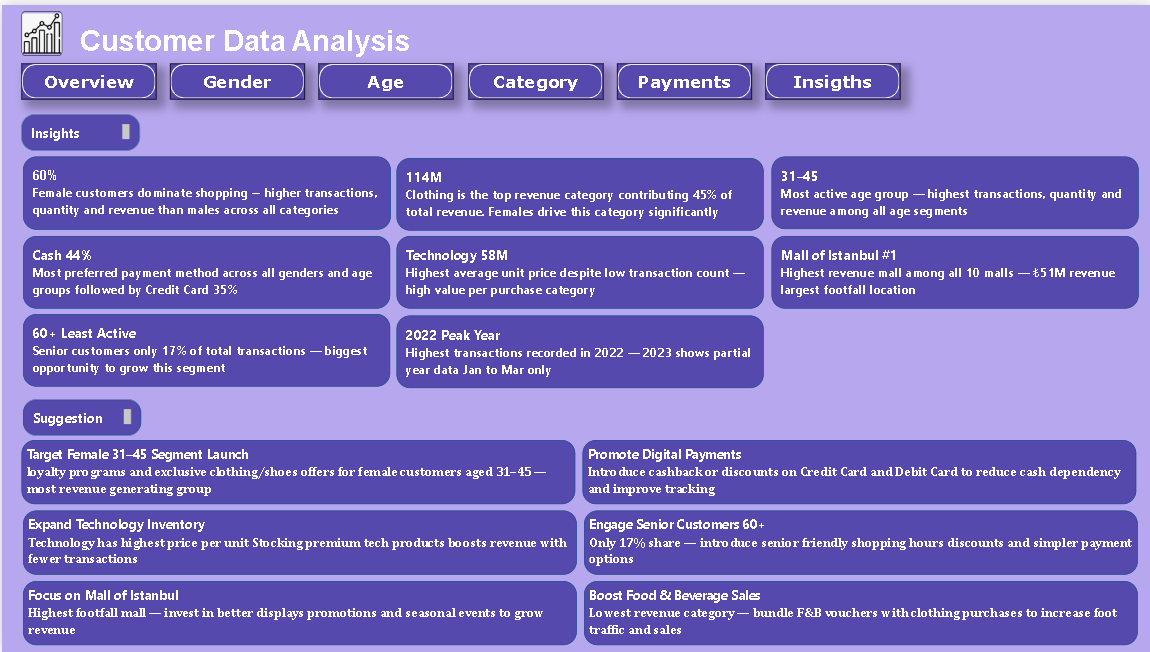

Layout of this report page (visuals, bound fields, positions):
{"tool":"powerbi","page":{"name":"Insights","canvas":[1280,720],"ordinal":5},"visuals":[{"type":"textbox","box":[81.4,15.7,1185.7,50],"z":0},{"type":"textbox","box":[23.3,168.7,408.7,81.5],"z":0,"group":"g4"},{"type":"group","id":"g1","title":"Group 2","box":[22,484,1238.4,71.3],"z":0,"group":"g5"},{"type":"textbox","box":[22,484,615.3,71.3],"z":0,"group":"g1"},{"type":"textbox","box":[23.4,561.8,615.3,71.3],"z":0,"group":"g2"},{"type":"textbox","box":[23.4,640.2,615.3,71.3],"z":0,"group":"g3"},{"type":"actionButton","box":[21.4,65.7,150,40],"z":1000},{"type":"textbox","box":[439.1,170.1,407.8,80.8],"z":1000,"group":"g4"},{"type":"textbox","box":[645,484,615.3,71.3],"z":1000,"group":"g1"},{"type":"group","id":"g2","title":"Group 2","box":[23.4,561.8,1238.4,71.3],"z":1000,"group":"g5"},{"type":"textbox","box":[646.4,561.8,615.3,71.3],"z":1000,"group":"g2"},{"type":"textbox","box":[646.4,640.2,615.3,71.3],"z":1000,"group":"g3"},{"type":"actionButton","box":[186.1,65.6,150,40],"z":2000},{"type":"textbox","box":[855.7,169.1,407.8,80.8],"z":2000,"group":"g4"},{"type":"group","id":"g3","title":"Group 2","box":[23.4,640.2,1238.4,71.3],"z":2000,"group":"g5"},{"type":"actionButton","box":[352.2,65.6,150,40],"z":3000},{"type":"textbox","box":[23.6,257.7,407.8,80.8],"z":3000,"group":"g4"},{"type":"actionButton","box":[518.9,65.6,150,40],"z":4000},{"type":"textbox","box":[23.6,344.3,407.8,80.8],"z":4000,"group":"g4"},{"type":"actionButton","box":[682.8,65.6,150,40],"z":5000},{"type":"textbox","box":[439.1,257.7,407.8,80.8],"z":5000,"group":"g4"},{"type":"actionButton","box":[847.8,65.6,150,40],"z":6000},{"type":"textbox","box":[439.1,345.3,407.8,80.8],"z":6000,"group":"g4"},{"type":"image","box":[21.7,7.2,45.6,50],"z":7000},{"type":"textbox","box":[855.7,257.7,407.8,80.8],"z":7000,"group":"g4"},{"type":"group","id":"g4","title":"Group 1","box":[23.3,168.7,1237.3,257.3],"z":8000},{"type":"group","id":"g5","title":"Group 3","box":[22,484,1237.3,227.3],"z":9000},{"type":"textbox","box":[22,121.3,131.3,40],"z":10000},{"type":"textbox","box":[23.3,438,131.3,40],"z":11000}]}

Visuals, with their boxes in screenshot pixels (x1, y1, x2, y2), scaled from the page's 1280x720 canvas onto the 1150x652 screenshot:
textbox: select_region(73, 14, 1138, 59)
textbox: select_region(21, 153, 388, 227)
"Group 2" group: select_region(20, 438, 1132, 503)
textbox: select_region(20, 438, 573, 503)
textbox: select_region(21, 509, 574, 573)
textbox: select_region(21, 580, 574, 644)
actionButton: select_region(19, 59, 154, 96)
textbox: select_region(395, 154, 761, 227)
textbox: select_region(579, 438, 1132, 503)
"Group 2" group: select_region(21, 509, 1134, 573)
textbox: select_region(581, 509, 1134, 573)
textbox: select_region(581, 580, 1134, 644)
actionButton: select_region(167, 59, 302, 96)
textbox: select_region(769, 153, 1135, 226)
"Group 2" group: select_region(21, 580, 1134, 644)
actionButton: select_region(316, 59, 451, 96)
textbox: select_region(21, 233, 388, 307)
actionButton: select_region(466, 59, 601, 96)
textbox: select_region(21, 312, 388, 385)
actionButton: select_region(613, 59, 748, 96)
textbox: select_region(395, 233, 761, 307)
actionButton: select_region(762, 59, 896, 96)
textbox: select_region(395, 313, 761, 386)
image: select_region(19, 7, 60, 52)
textbox: select_region(769, 233, 1135, 307)
"Group 1" group: select_region(21, 153, 1133, 386)
"Group 3" group: select_region(20, 438, 1131, 644)
textbox: select_region(20, 110, 138, 146)
textbox: select_region(21, 397, 139, 433)
